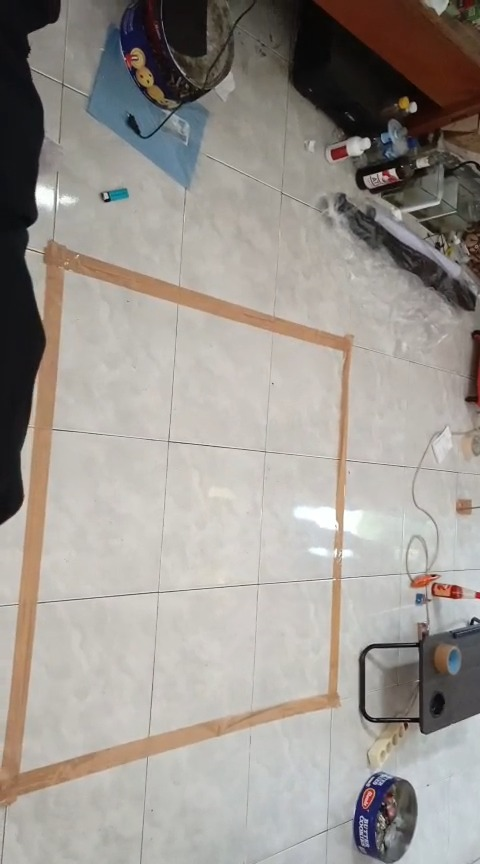floor marking: (0, 241, 351, 804)
